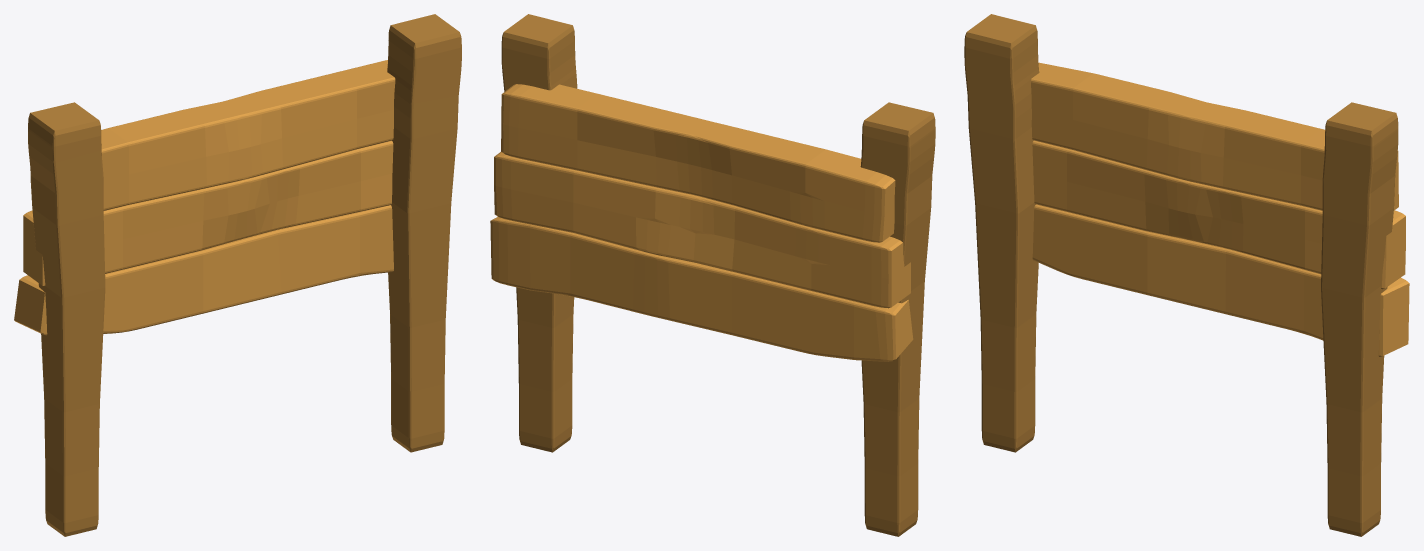
Rendered from missionBoard.glb.
3 renders of one model, left to right at view 1: azimuth 30°, elevation 25°; view 2: azimuth 150°, elevation 25°; view 3: azimuth 330°, elevation 25°, orthographic.
Visible parts, largest first — view 1: Cube.003, Cube; view 2: Cube.003, Cube; view 3: Cube.003, Cube.
Part boxes in pixels (x1=…): Cube.003: x1=14, y1=60, x2=395, y2=335; Cube: x1=28, y1=14, x2=461, y2=536; Cube.003: x1=490, y1=84, x2=913, y2=361; Cube: x1=501, y1=14, x2=935, y2=536; Cube.003: x1=1031, y1=62, x2=1409, y2=356; Cube: x1=964, y1=14, x2=1398, y2=536.
Bounding box in the file's own units: 4.79 × 4.61 × 0.8261.
